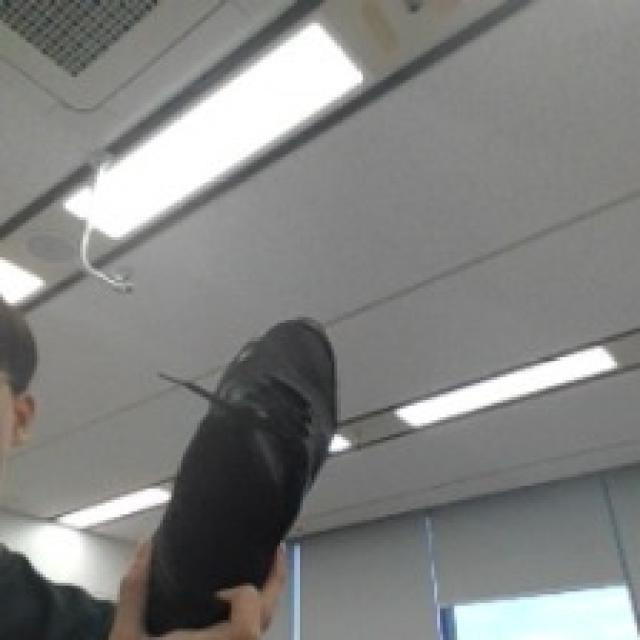shoe: (143, 317, 343, 640)
